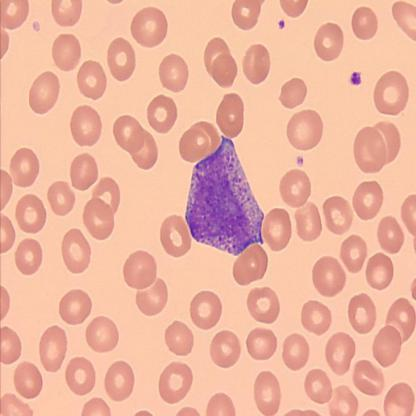Myelocyte: (184, 134, 264, 254)
